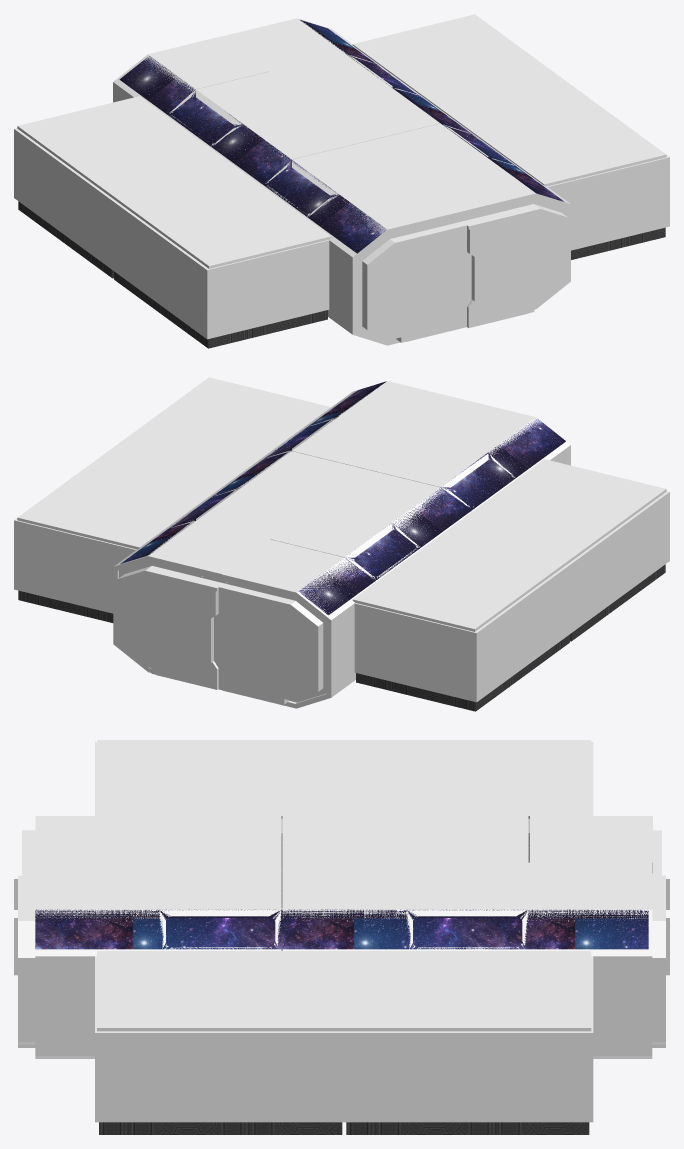
The model's file is space_cage.glb.
The picture shows the model from 3 angles, top to bottom: view 1: azimuth 30°, elevation 25°; view 2: azimuth 150°, elevation 25°; view 3: azimuth 270°, elevation 25°; orthographic projection. The views are drawn at different scales.
Visible parts, largest first — view 1: Material2 (×4); view 2: Material2 (×4); view 3: Material2 (×4).
Boxes of the visible parts, left/top/right/bottom form: Material2 (×4): left=14, top=14, right=669, bottom=348; Material2 (×4): left=14, top=377, right=669, bottom=711; Material2 (×4): left=14, top=740, right=669, bottom=1134.
Size of the model in its own units: 687 by 165 by 654.
9 materials, 2 textured.
